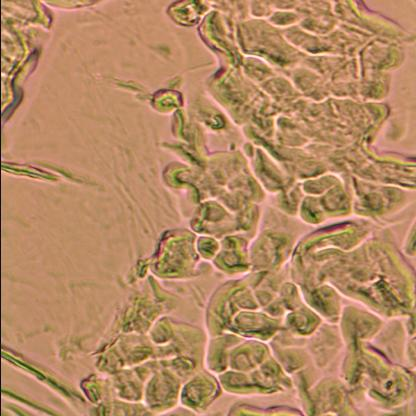Stage I: (111, 0, 416, 416)
